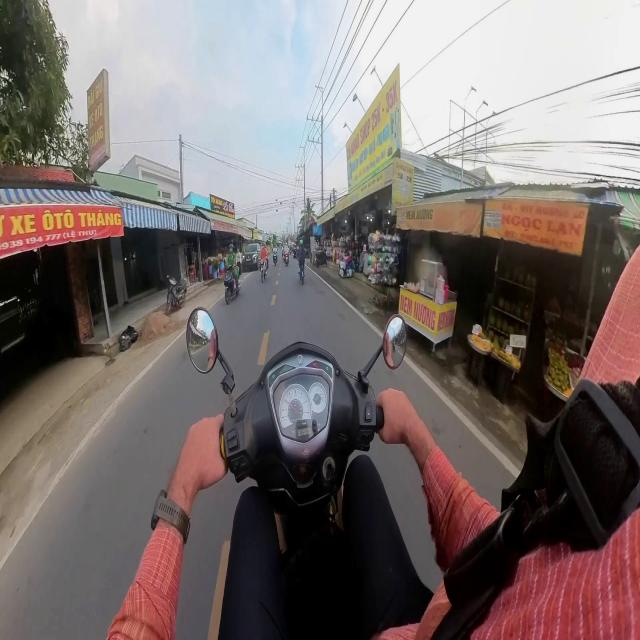car: (242, 243, 261, 271)
motorcycle: (187, 309, 406, 620), (166, 276, 187, 312), (224, 271, 239, 304), (261, 260, 266, 282), (299, 264, 304, 285), (273, 252, 277, 265), (284, 254, 288, 266)
